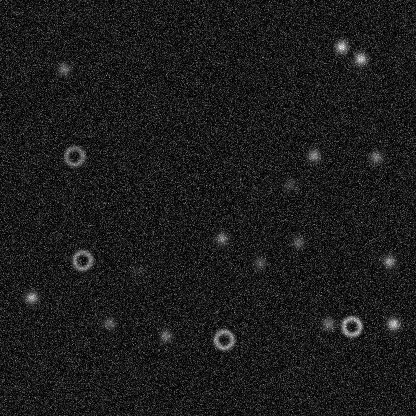Ring: (211, 327, 235, 351), (70, 248, 94, 272), (62, 144, 86, 168), (339, 314, 363, 338)
Spot: (157, 327, 173, 343), (305, 147, 321, 163), (213, 230, 229, 246), (333, 38, 349, 54), (251, 254, 267, 270), (320, 315, 336, 331), (100, 315, 116, 331), (367, 149, 383, 165), (23, 289, 39, 305), (290, 234, 306, 250), (352, 50, 368, 66), (381, 253, 397, 269), (55, 60, 71, 76), (281, 176, 297, 192), (129, 262, 145, 278), (385, 315, 401, 331)
